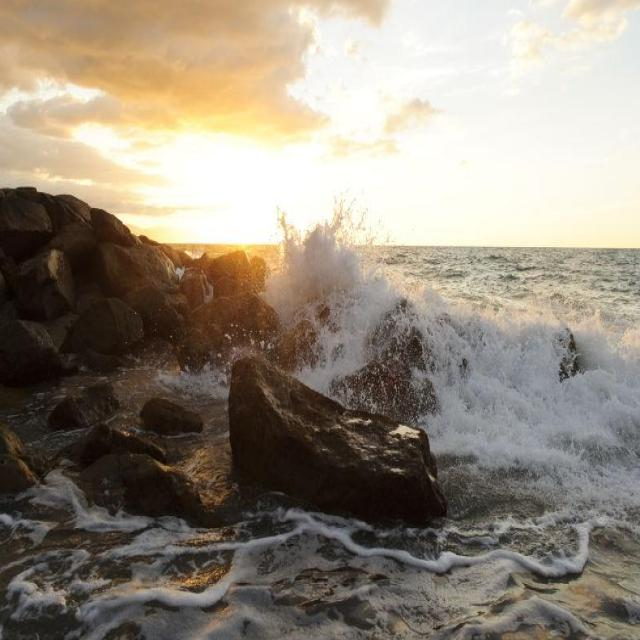reef: (83, 205, 562, 528)
